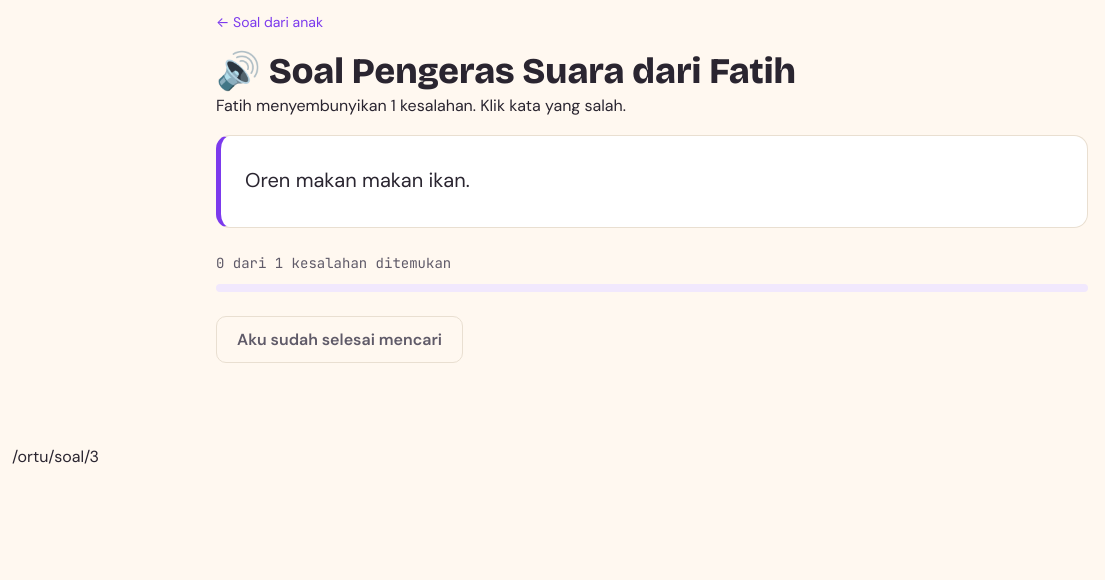
Test: Pojok Orang Tua: Soal dari anak › mengerjakan: klik dinilai server, lalu kunci dan alasan anak terbuka
Expected: the heading "🔊 Soal Pengeras Suara dari Fatih" is shown, [216,50,796,93]
Expected: the text "Fatih menyembunyikan 1 kesalahan. Klik kata yang salah." is shown, [216,95,626,116]
Click the button "Oren".
click(268, 182)  # box [245,160,290,203]
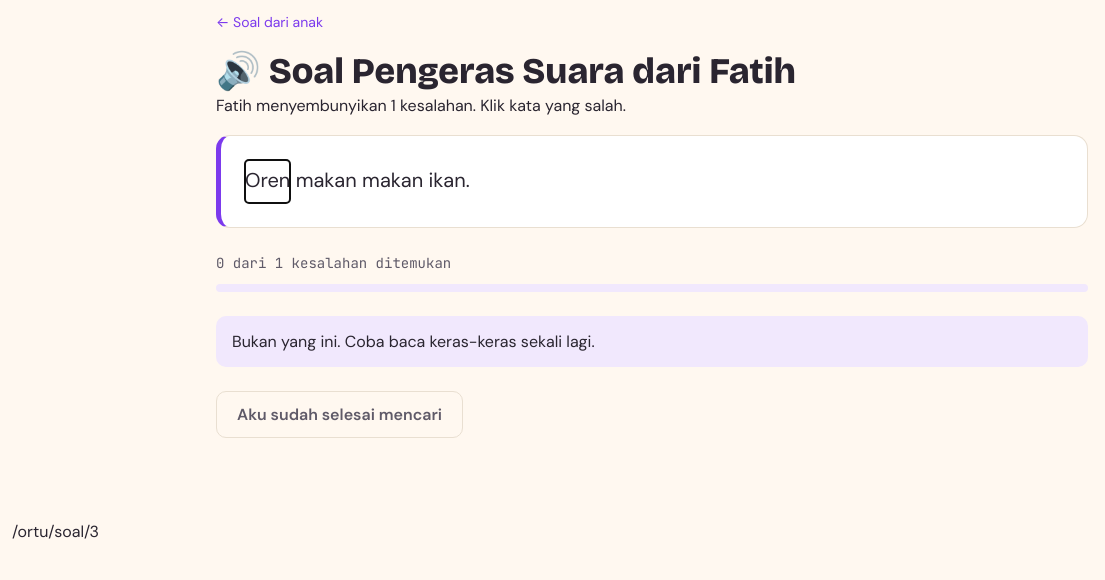
Expected: the text "Bukan yang ini. Coba baca keras-keras sekali lagi." is shown, [216,316,1088,367]
Click the 2nd button "makan".
click(393, 182)  # box [362,160,423,203]
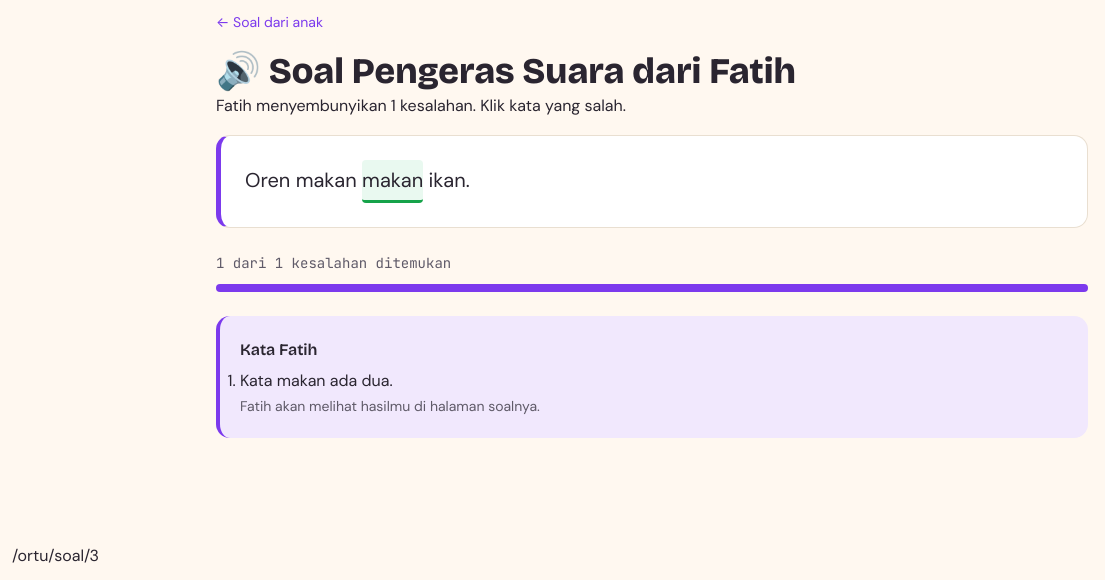
Expected: the list item "Kata makan ada dua." is shown, [240,370,393,391]
Expected: the text "Fatih akan melihat hasilmu di halaman soalnya." is shown, [240,396,540,414]
